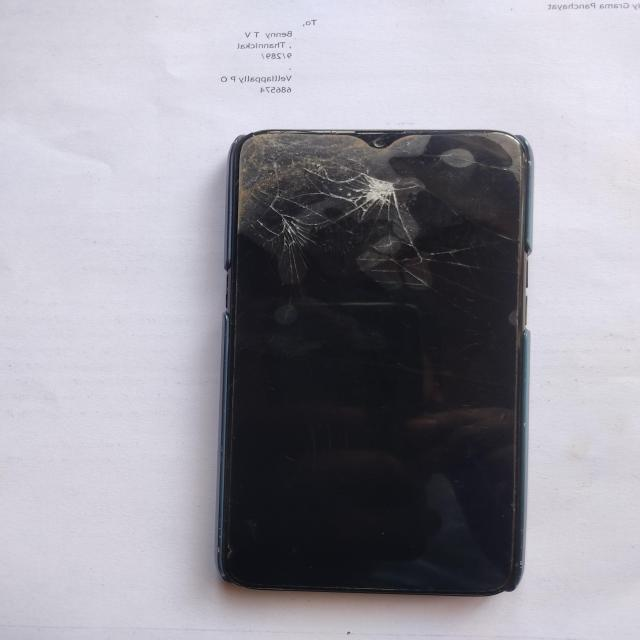mobile: (183, 102, 576, 608)
